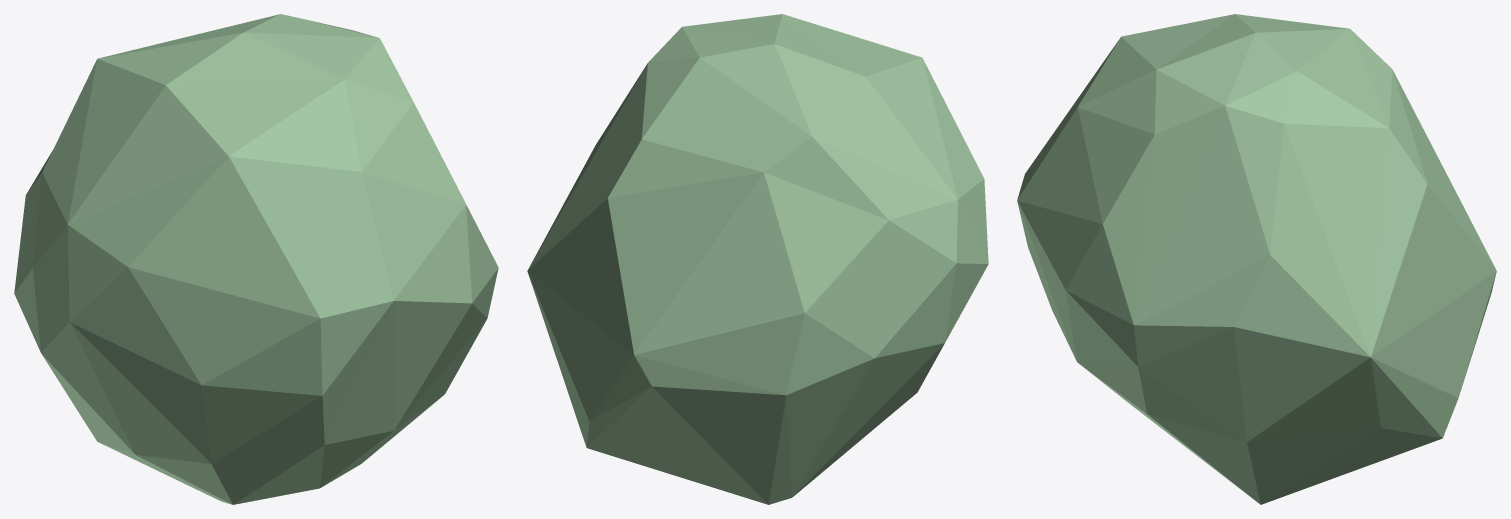
File: Mystic_Bush3.fbx
3 renders of one model, left to right at view 1: azimuth 30°, elevation 25°; view 2: azimuth 150°, elevation 25°; view 3: azimuth 270°, elevation 25°, orthographic. The views are drawn at different scales.
Visible parts, largest first — view 1: Mystic_Bush3; view 2: Mystic_Bush3; view 3: Mystic_Bush3.
Part boxes in pixels (left/top/right/bottom): Mystic_Bush3: left=14, top=14, right=498, bottom=504; Mystic_Bush3: left=527, top=14, right=988, bottom=504; Mystic_Bush3: left=1017, top=14, right=1496, bottom=504.
Size of the model in its own units: 144 by 153 by 159.
